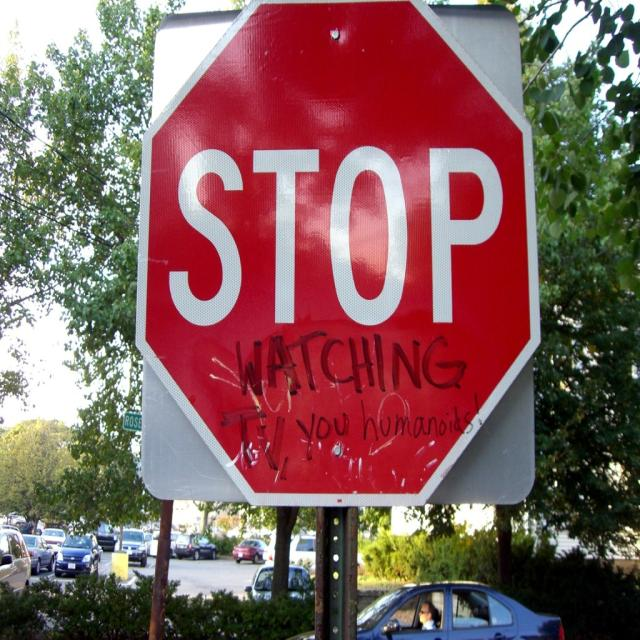Stop-sign: (133, 0, 542, 509), (136, 0, 542, 508)
